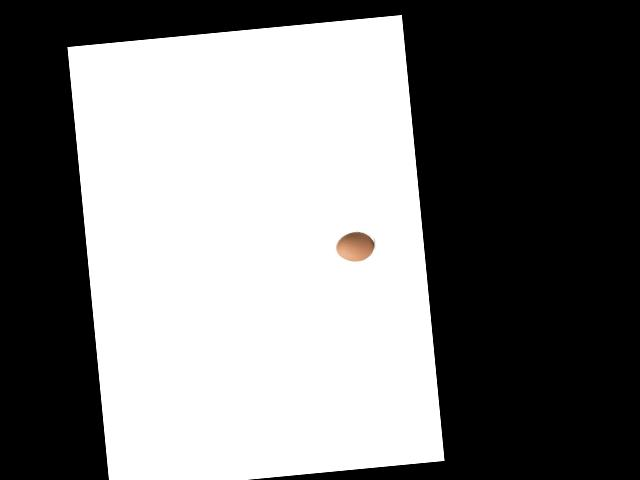egg: (335, 230, 375, 262)
